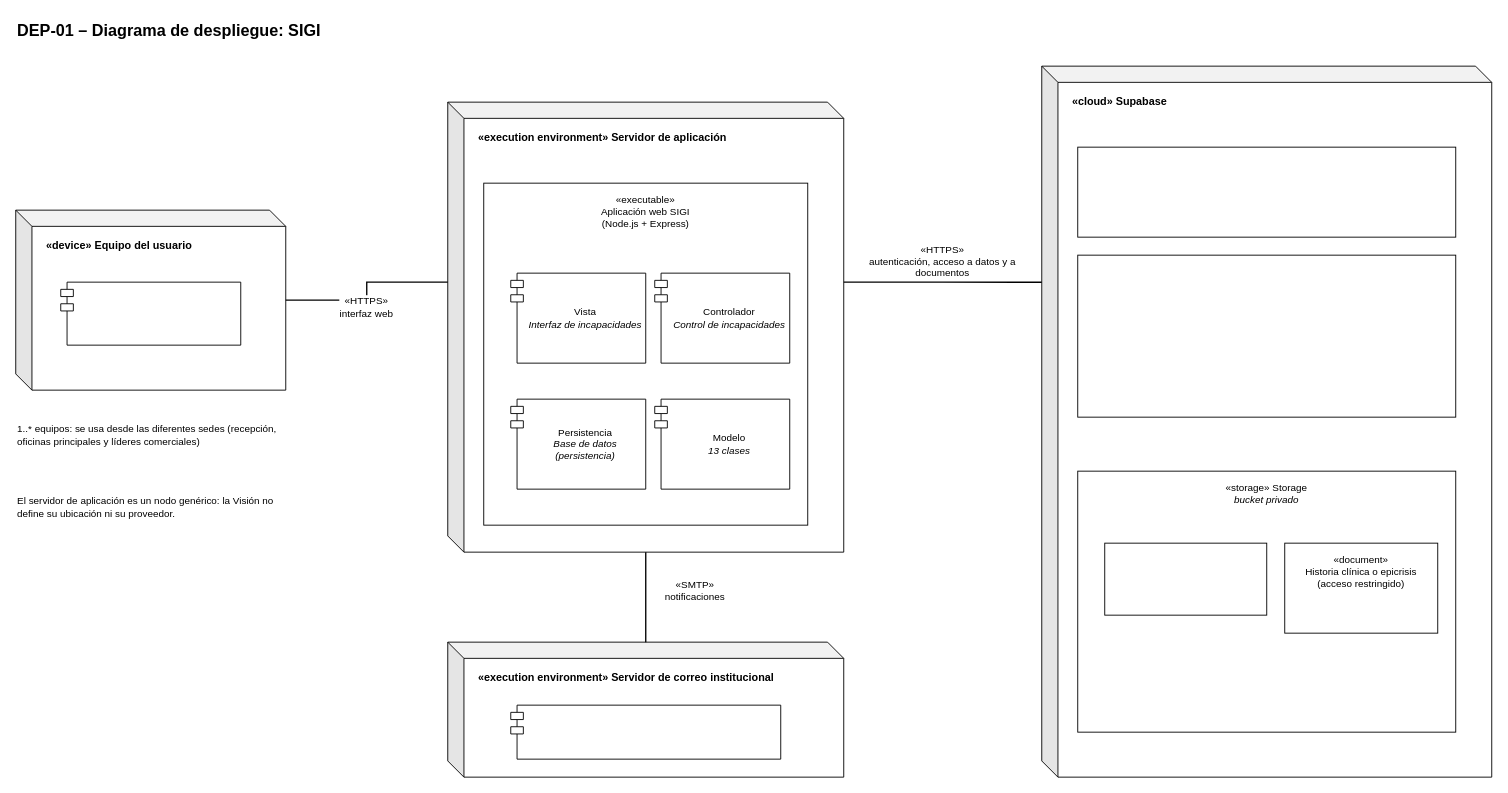
Image size: 1508x793. Some labels were removed from this diagram. Here are the shapes that lost their labels. From the top down, the centre of each, then its label:
At (x=1266, y=191): "«authentication» Supabase Auth inicio de sesión con el correo institucional".
At (x=150, y=313): "Navegador web".
At (x=1266, y=335): "«database» PostgreSQL 13 tablas del Modelo".
At (x=1185, y=578): "«file» Documentos escaneados".
At (x=645, y=731): "Servicio de correo institucional".
